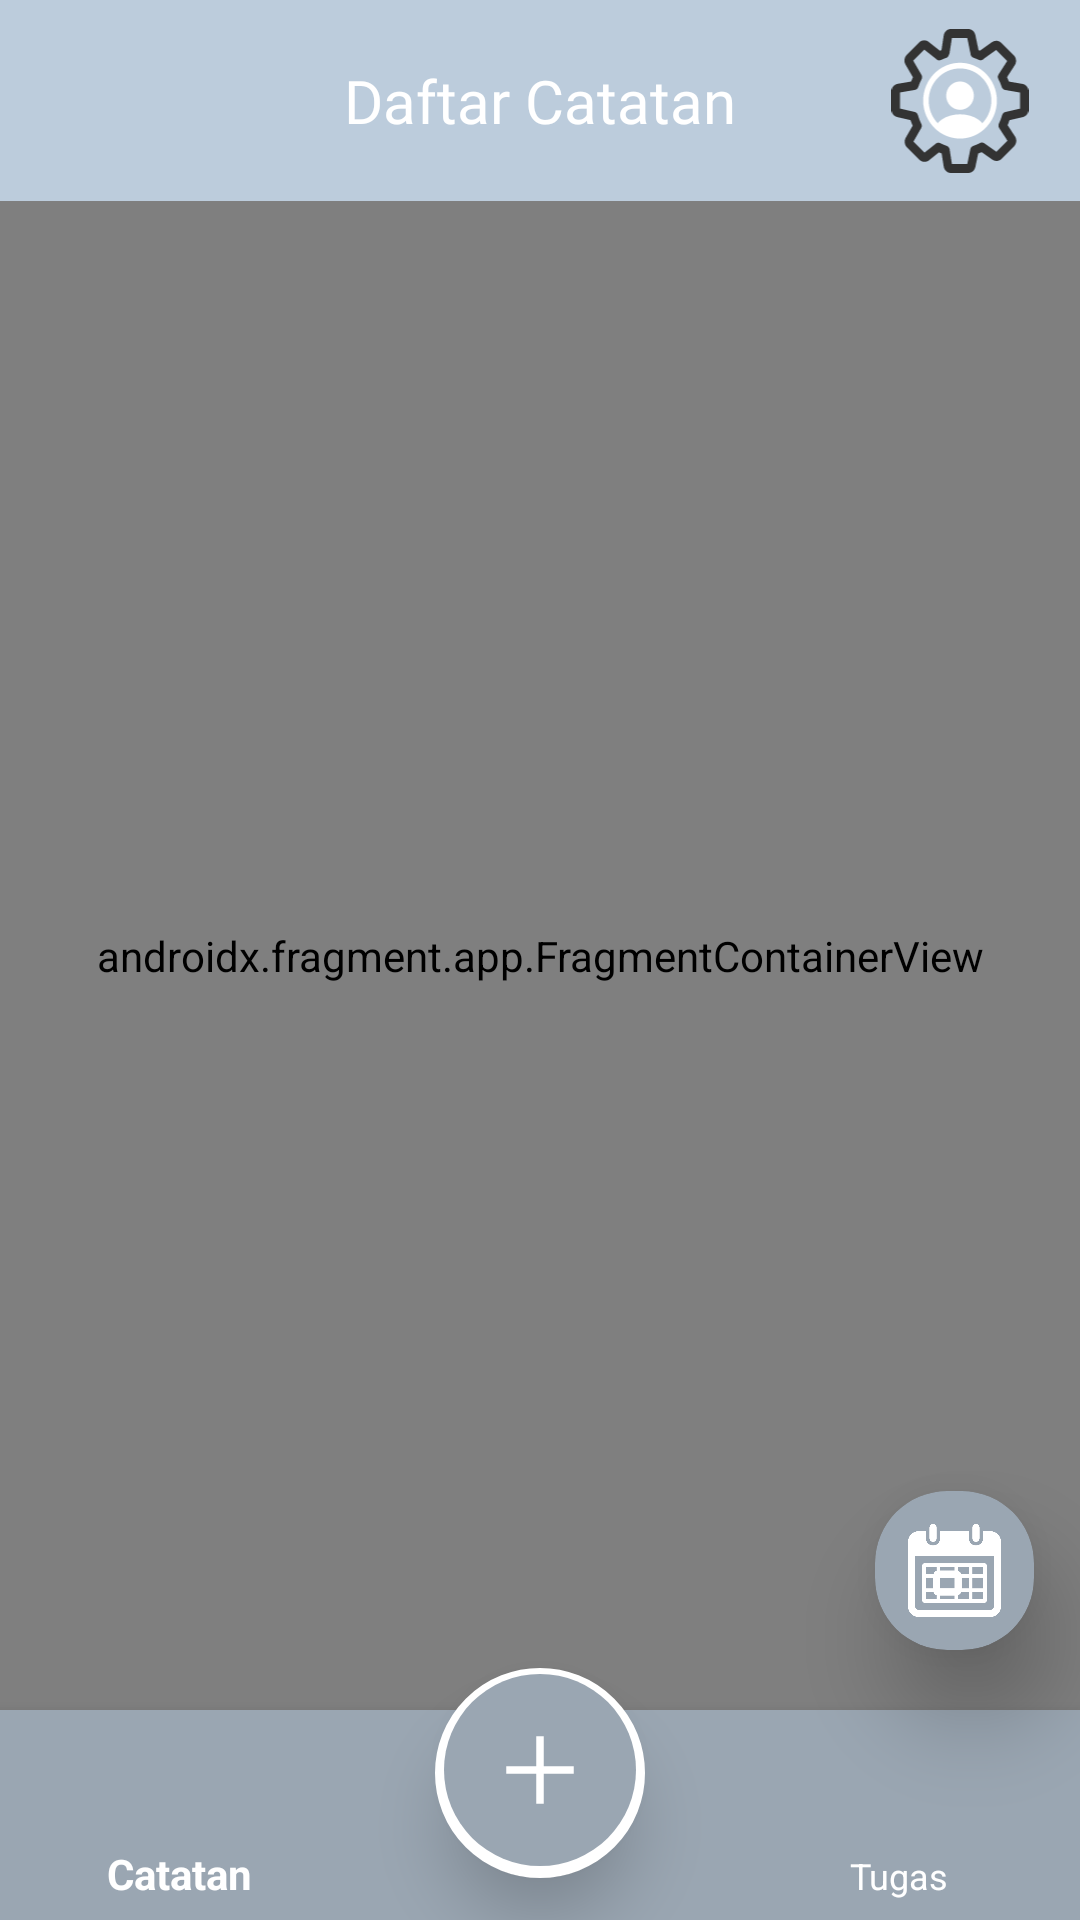

Named icons in this screenshot (1080×1920) and their centers, (x=x, y=y):
Buka Profil: (x=960, y=101)
Kalender: (x=954, y=1570)
Tambah Catatan atau Tugas Baru: (x=540, y=1770)
